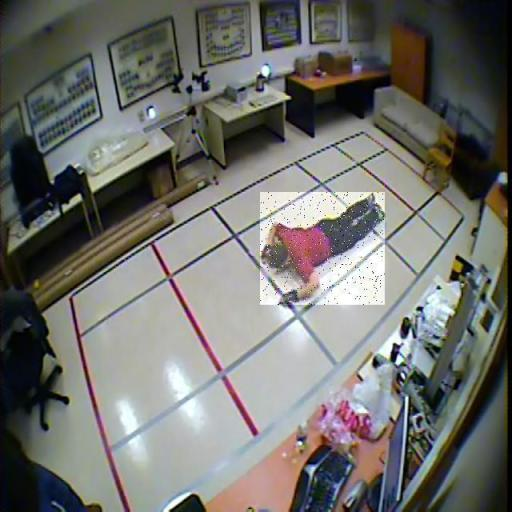Fall: (260, 192, 385, 305)
